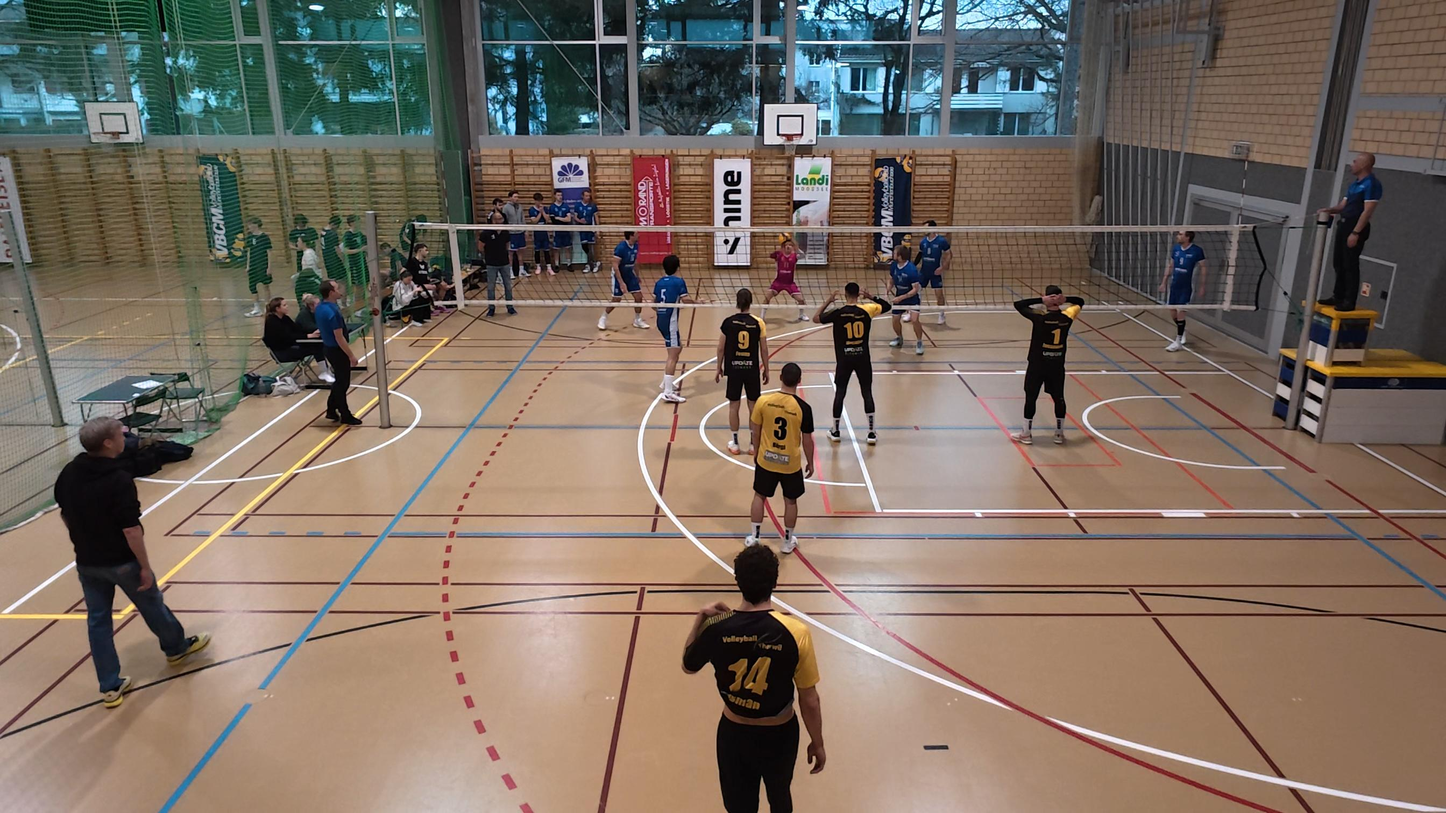ricezione: (757, 232, 808, 322)
